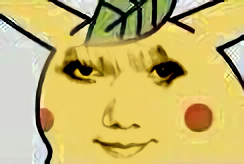dragon: (61, 51, 187, 159)
